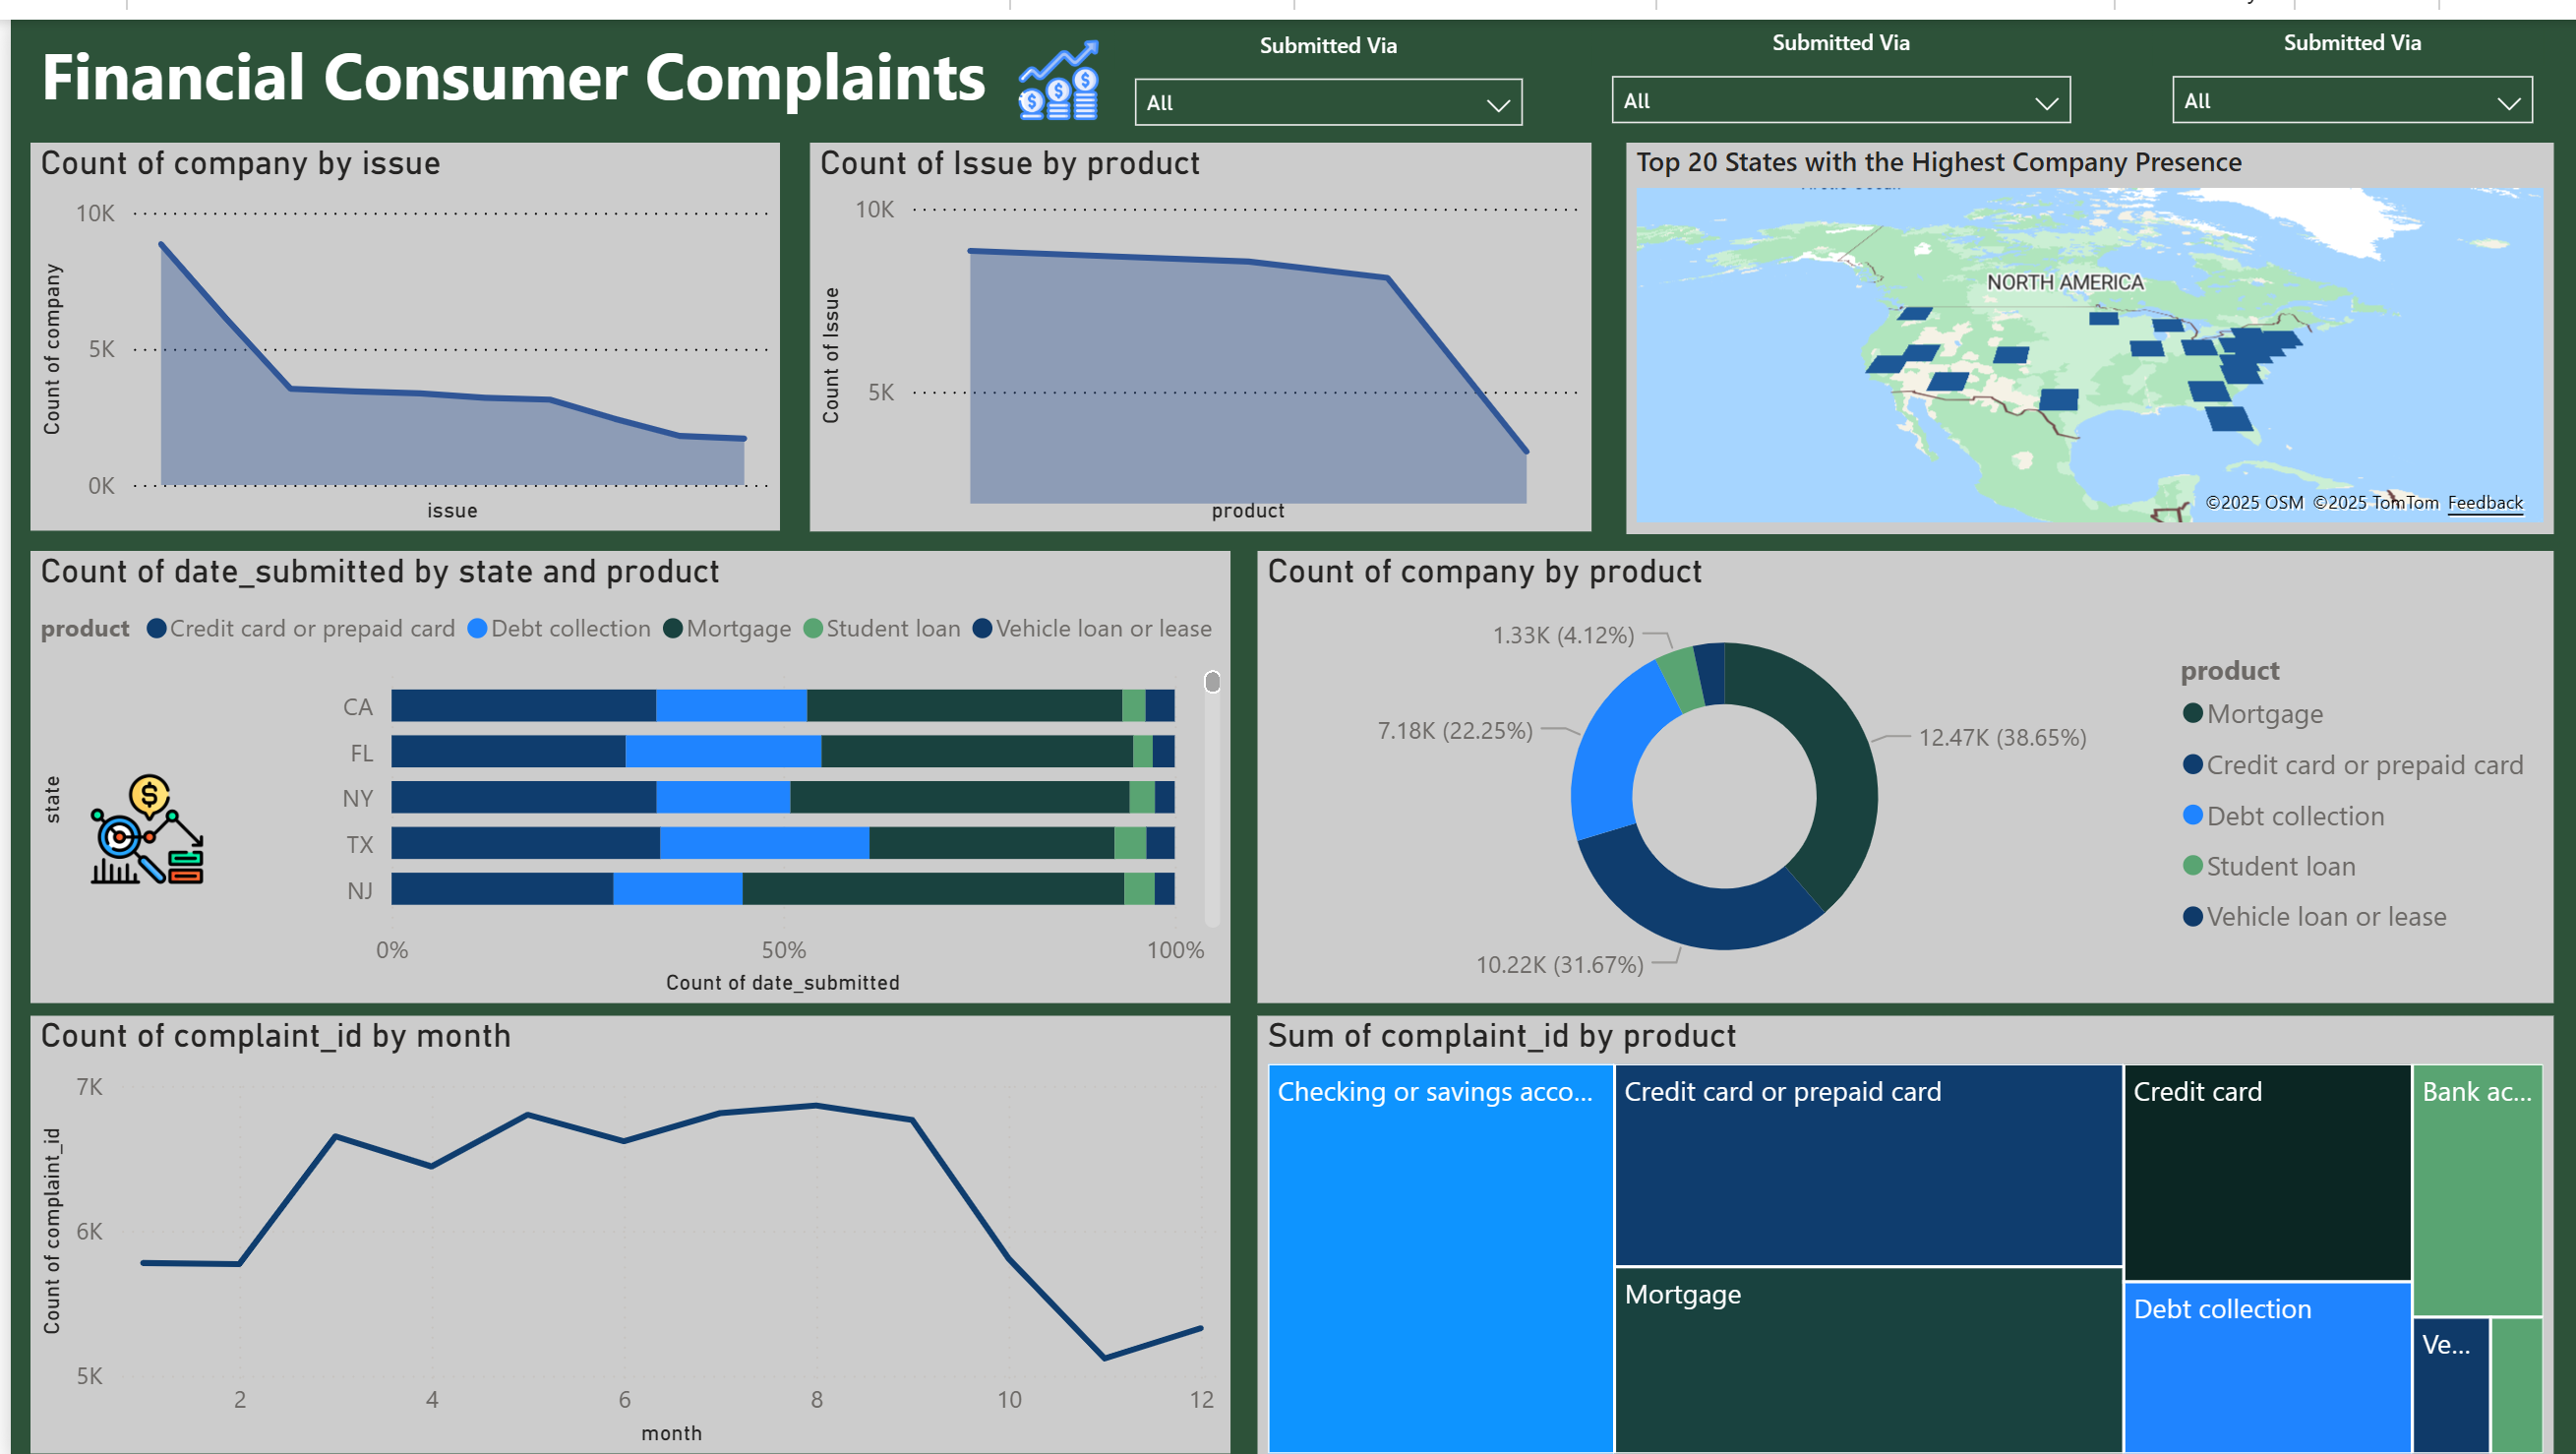

What the dashboard file says about the page in this screenshot:
{"tool":"powerbi","page":{"name":"Home","canvas":[1280,720],"ordinal":0},"visuals":[{"type":"textbox","box":[9.8,0,558.3,61.4],"z":0},{"type":"areaChart","fields":{"Category":["clean_complaints_edited.issue"],"Y":["CountNonNull(clean_complaints_edited.company)"]},"box":[9.6,61.3,373.9,193.6],"z":1000},{"type":"areaChart","fields":{"Y":["CountNonNull(clean_complaints_edited.company)"],"Category":["clean_complaints_edited.product"]},"box":[420.8,61.3,354.7,193.6],"z":2000},{"type":"azureMap","title":"Top 20 States with the Highest Company Presence","fields":{"Category":["clean_complaints_edited.state"],"Series":["clean_complaints_edited.company"]},"box":[806.1,61.4,462.6,195.1],"z":3000},{"type":"hundredPercentStackedBarChart","fields":{"Category":["clean_complaints_edited.state"],"Y":["CountNonNull(clean_complaints_edited.date_submitted)"],"Series":["clean_complaints_edited.product"]},"box":[9.3,274.4,612.8,310.5],"z":4000},{"type":"donutChart","fields":{"Category":["clean_complaints_edited.product"],"Y":["CountNonNull(clean_complaints_edited.company)"]},"box":[657.7,274.8,598.8,201.2],"z":5000},{"type":"lineChart","fields":{"Y":["CountNonNull(clean_complaints_edited.complaint_id)"],"Category":["clean_complaints_edited.month"]},"box":[9.8,496.9,598.8,218.4],"z":5001},{"type":"treemap","fields":{"Values":["Sum(clean_complaints_edited.complaint_id)"],"Group":["clean_complaints_edited.product"]},"box":[622.1,490.8,646.6,229.4],"z":5002},{"type":"slicer","title":"Submitted Via","fields":{"Values":["clean_complaints_edited.submitted_via"]},"box":[550.9,4.9,213.5,50.3],"z":5003},{"type":"slicer","title":"Submitted Via","fields":{"Values":["clean_complaints_edited.issue"]},"box":[789,3.7,249.1,50.3],"z":5004},{"type":"slicer","title":"Submitted Via","fields":{"Values":["clean_complaints_edited.product"]},"box":[1068.7,3.7,200,51.5],"z":5005},{"type":"image","box":[494.5,4.9,56.4,50.3],"z":5006},{"type":"image","box":[33.1,370.6,69.9,66.3],"z":5007}]}

Visuals, with their boxes in screenshot pixels (x1, y1, x2, y2), scaled from the page's 1280x720 canvas onto the 2576x1454 screenshot:
textbox: box=[20, 0, 1143, 124]
areaChart - clean_complaints_edited.issue x CountNonNull(clean_complaints_edited.company): box=[20, 124, 772, 515]
areaChart - CountNonNull(clean_complaints_edited.company) x clean_complaints_edited.product: box=[847, 124, 1561, 515]
"Top 20 States with the Highest Company Presence" azureMap: box=[1622, 124, 2553, 518]
hundredPercentStackedBarChart - clean_complaints_edited.state x CountNonNull(clean_complaints_edited.date_submitted): box=[19, 554, 1252, 1181]
donutChart - clean_complaints_edited.product x CountNonNull(clean_complaints_edited.company): box=[1324, 555, 2529, 961]
lineChart - CountNonNull(clean_complaints_edited.complaint_id) x clean_complaints_edited.month: box=[20, 1003, 1225, 1444]
treemap - Sum(clean_complaints_edited.complaint_id) x clean_complaints_edited.product: box=[1252, 992, 2553, 1453]
"Submitted Via" slicer: box=[1108, 10, 1538, 111]
"Submitted Via" slicer: box=[1588, 8, 2089, 109]
"Submitted Via" slicer: box=[2151, 8, 2553, 111]
image: box=[995, 10, 1108, 111]
image: box=[67, 749, 208, 882]
